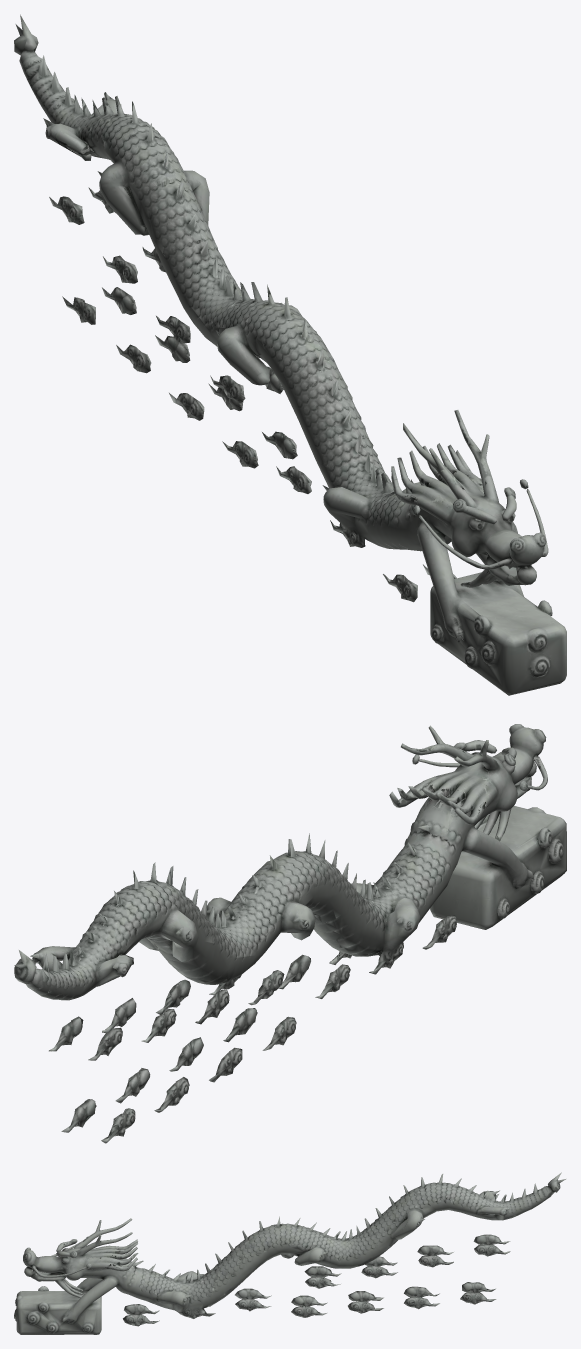
The model's file is rong_bac.glb.
The picture shows the model from 3 angles, top to bottom: view 1: azimuth 30°, elevation 25°; view 2: azimuth 150°, elevation 25°; view 3: azimuth 270°, elevation 25°; orthographic projection. The views are drawn at different scales.
Visible parts, largest first — view 1: rong_bac; view 2: rong_bac; view 3: rong_bac.
Boxes of the visible parts, <box> form: rong_bac: <box>14,14,566,695</box>; rong_bac: <box>14,724,566,1143</box>; rong_bac: <box>14,1172,565,1334</box>.
Bounding box in the file's own units: 1 × 2.52 × 8.07.
Materials: 1 (1 with a texture image).
